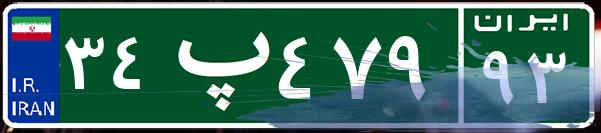3: (57, 26, 110, 107), (525, 38, 570, 115)
4: (273, 28, 330, 110), (110, 28, 158, 105)
7: (330, 28, 385, 110)
9: (385, 28, 445, 110), (475, 38, 525, 113)
پ: (158, 15, 273, 115)
